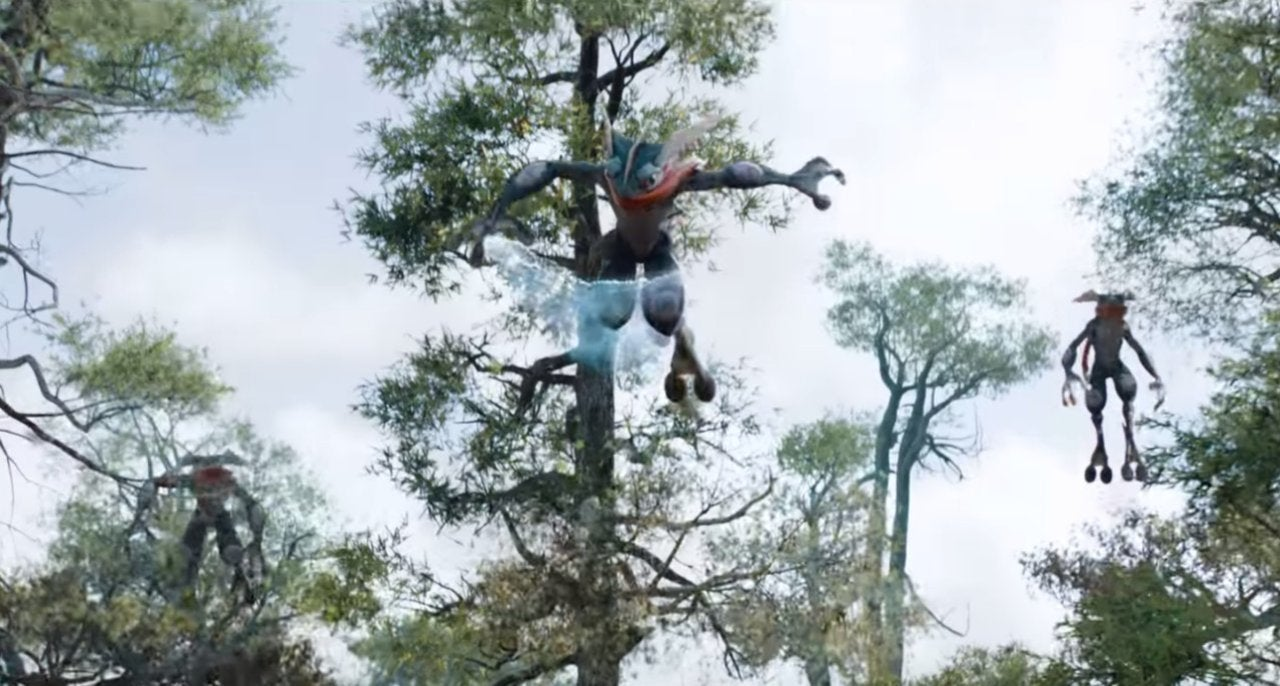greninja: (459, 94, 854, 432), (107, 447, 291, 609), (1059, 283, 1168, 496)
